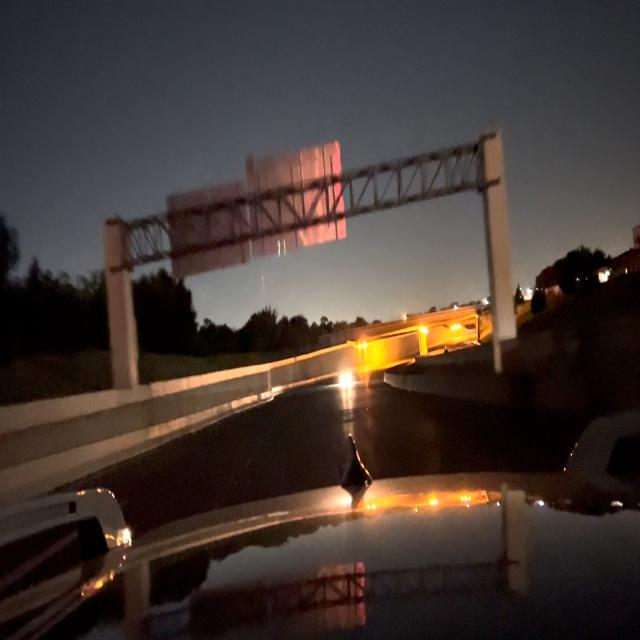back-of-sign: (250, 117, 346, 264), (166, 181, 249, 280)
